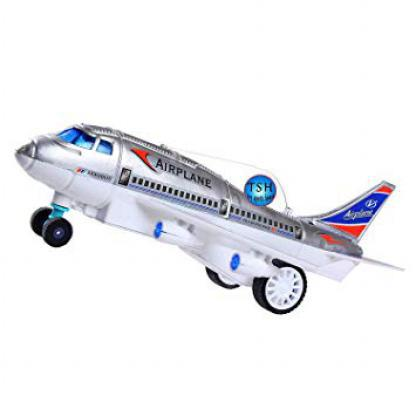CIV_Plane: (7, 121, 406, 322)
